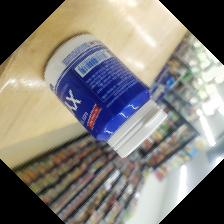Xylitol_blue: (42, 31, 168, 160)
